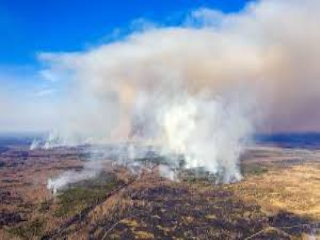smoke: (111, 88, 255, 186)
